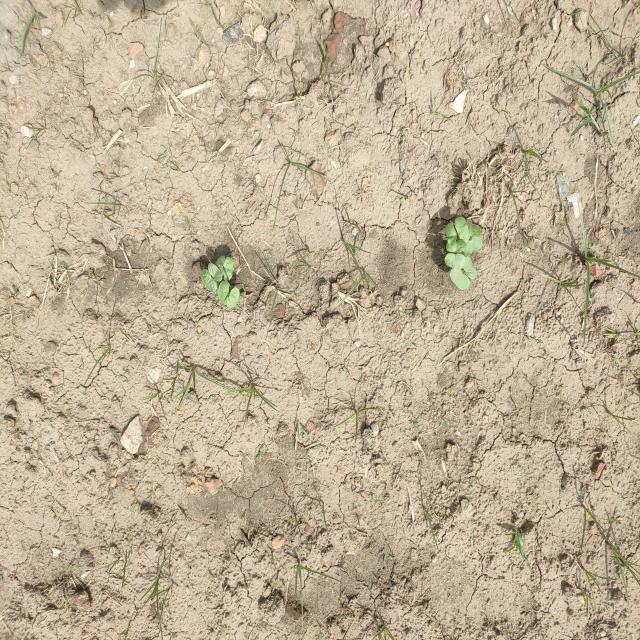seedling_s2: (450, 268, 470, 290), (454, 217, 470, 243), (461, 236, 482, 255), (201, 269, 217, 293), (444, 253, 467, 269), (445, 222, 457, 246), (464, 256, 476, 279), (218, 281, 229, 306), (208, 263, 222, 282), (227, 288, 240, 308), (446, 239, 466, 252), (224, 257, 233, 281), (215, 255, 225, 276), (467, 222, 481, 237)
